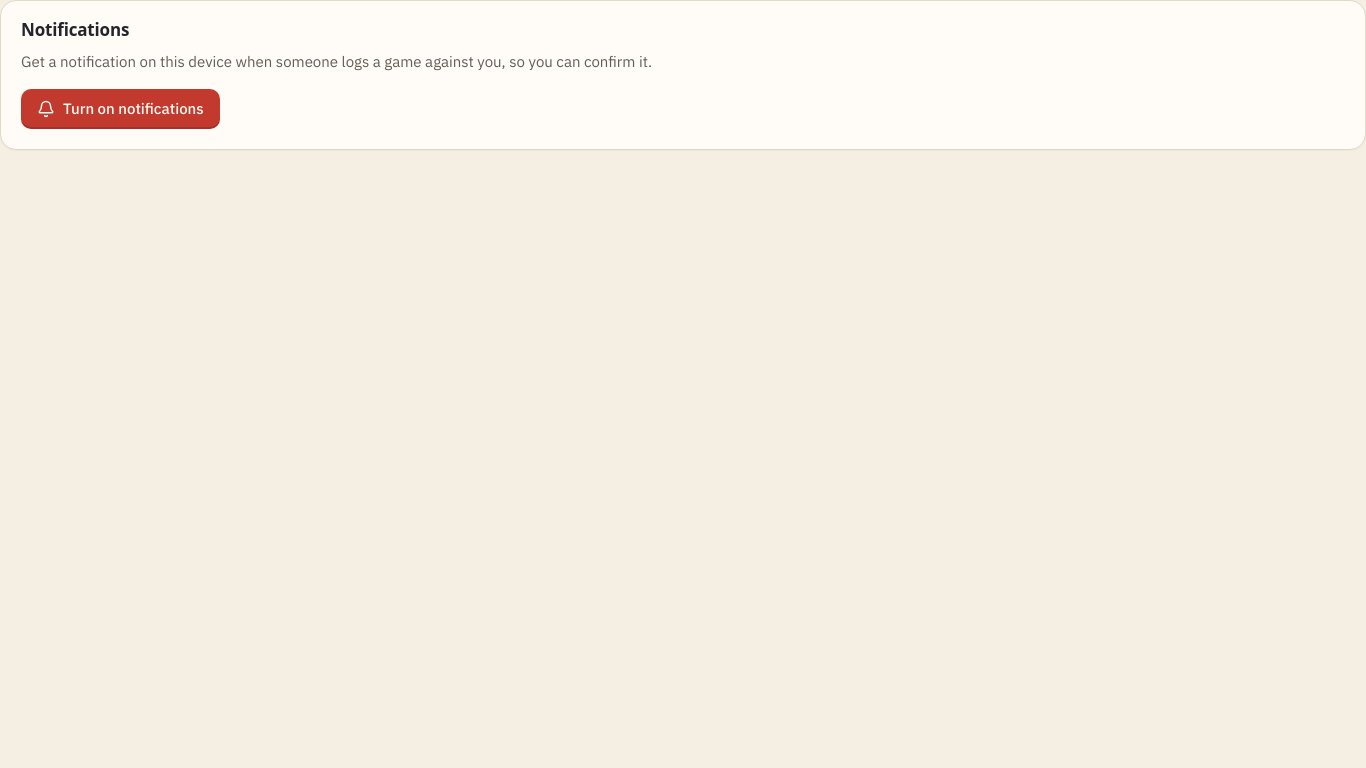
Scenario: NotificationsPanel › turns notifications on, sends a test, and turns them off
Click the button "Turn on notifications" at (120, 109), box [21, 89, 220, 129]
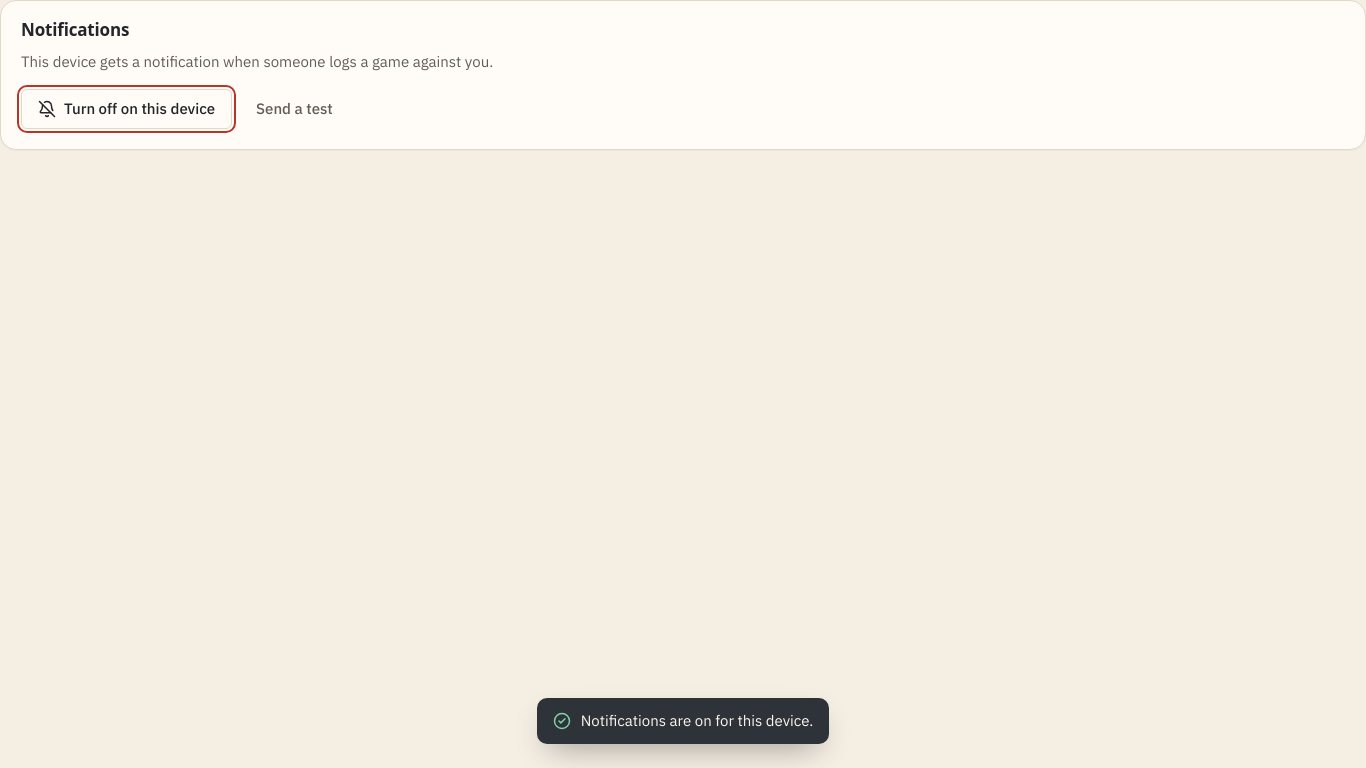
Expected: the text "This device gets a notification when someone logs a game against you." is shown, [21, 50, 493, 73]
Click the button "Send a test" at (294, 109), box [240, 89, 349, 129]
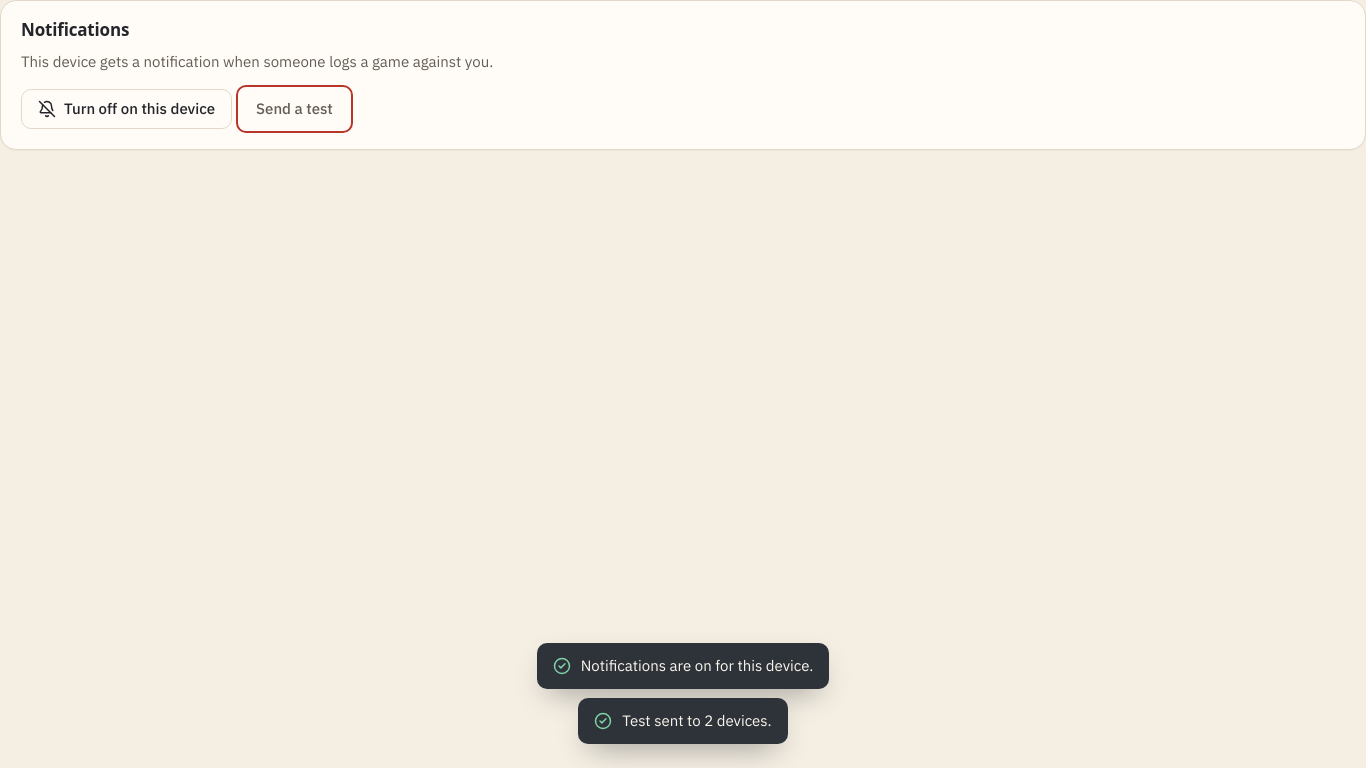
Click the button "Turn off on this device" at (127, 109), box [21, 89, 232, 129]
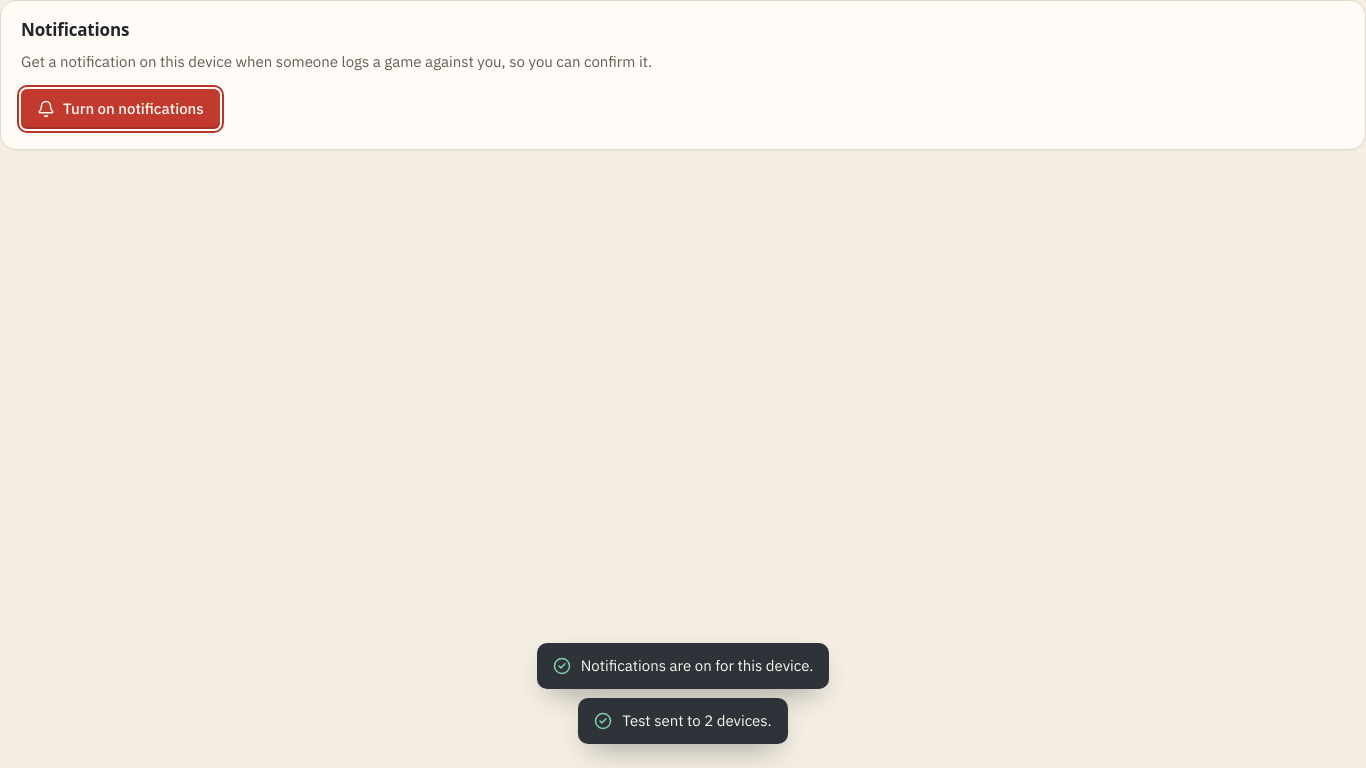
Expected: the text "Get a notification on this device when someone logs a game against you, so you can confirm it." is shown, [21, 52, 652, 70]
